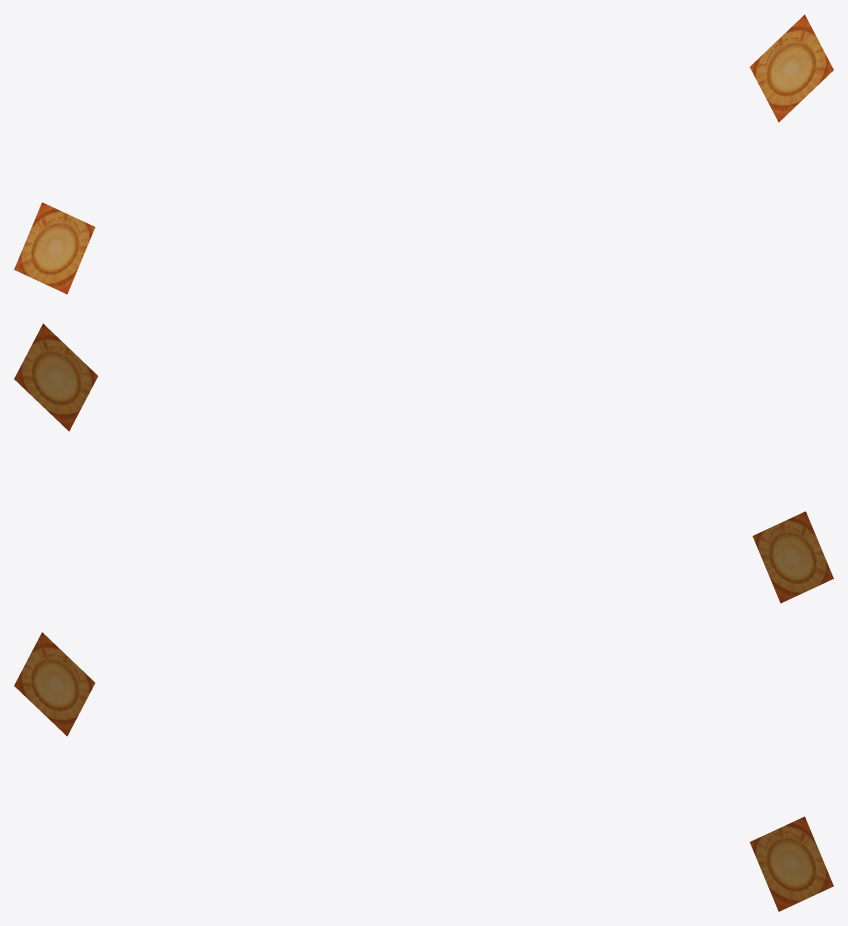
File: hutt_fighter_medium_booster_s01_on_l2.fbx
3 views of the same model, one above another, from view 1: azimuth 30°, elevation 25°; view 2: azimuth 150°, elevation 25°; view 3: azimuth 330°, elevation 25° (orthographic).
Visible parts, largest first — view 1: mesh_node; view 2: mesh_node; view 3: mesh_node.
Part boxes in pixels (bbox=[...]): mesh_node: bbox=[14, 14, 833, 294]; mesh_node: bbox=[14, 323, 833, 603]; mesh_node: bbox=[14, 632, 833, 911].
Size of the model in its own units: 3.45 by 0.4092 by 0.
Materials: 1 (1 with a texture image).
